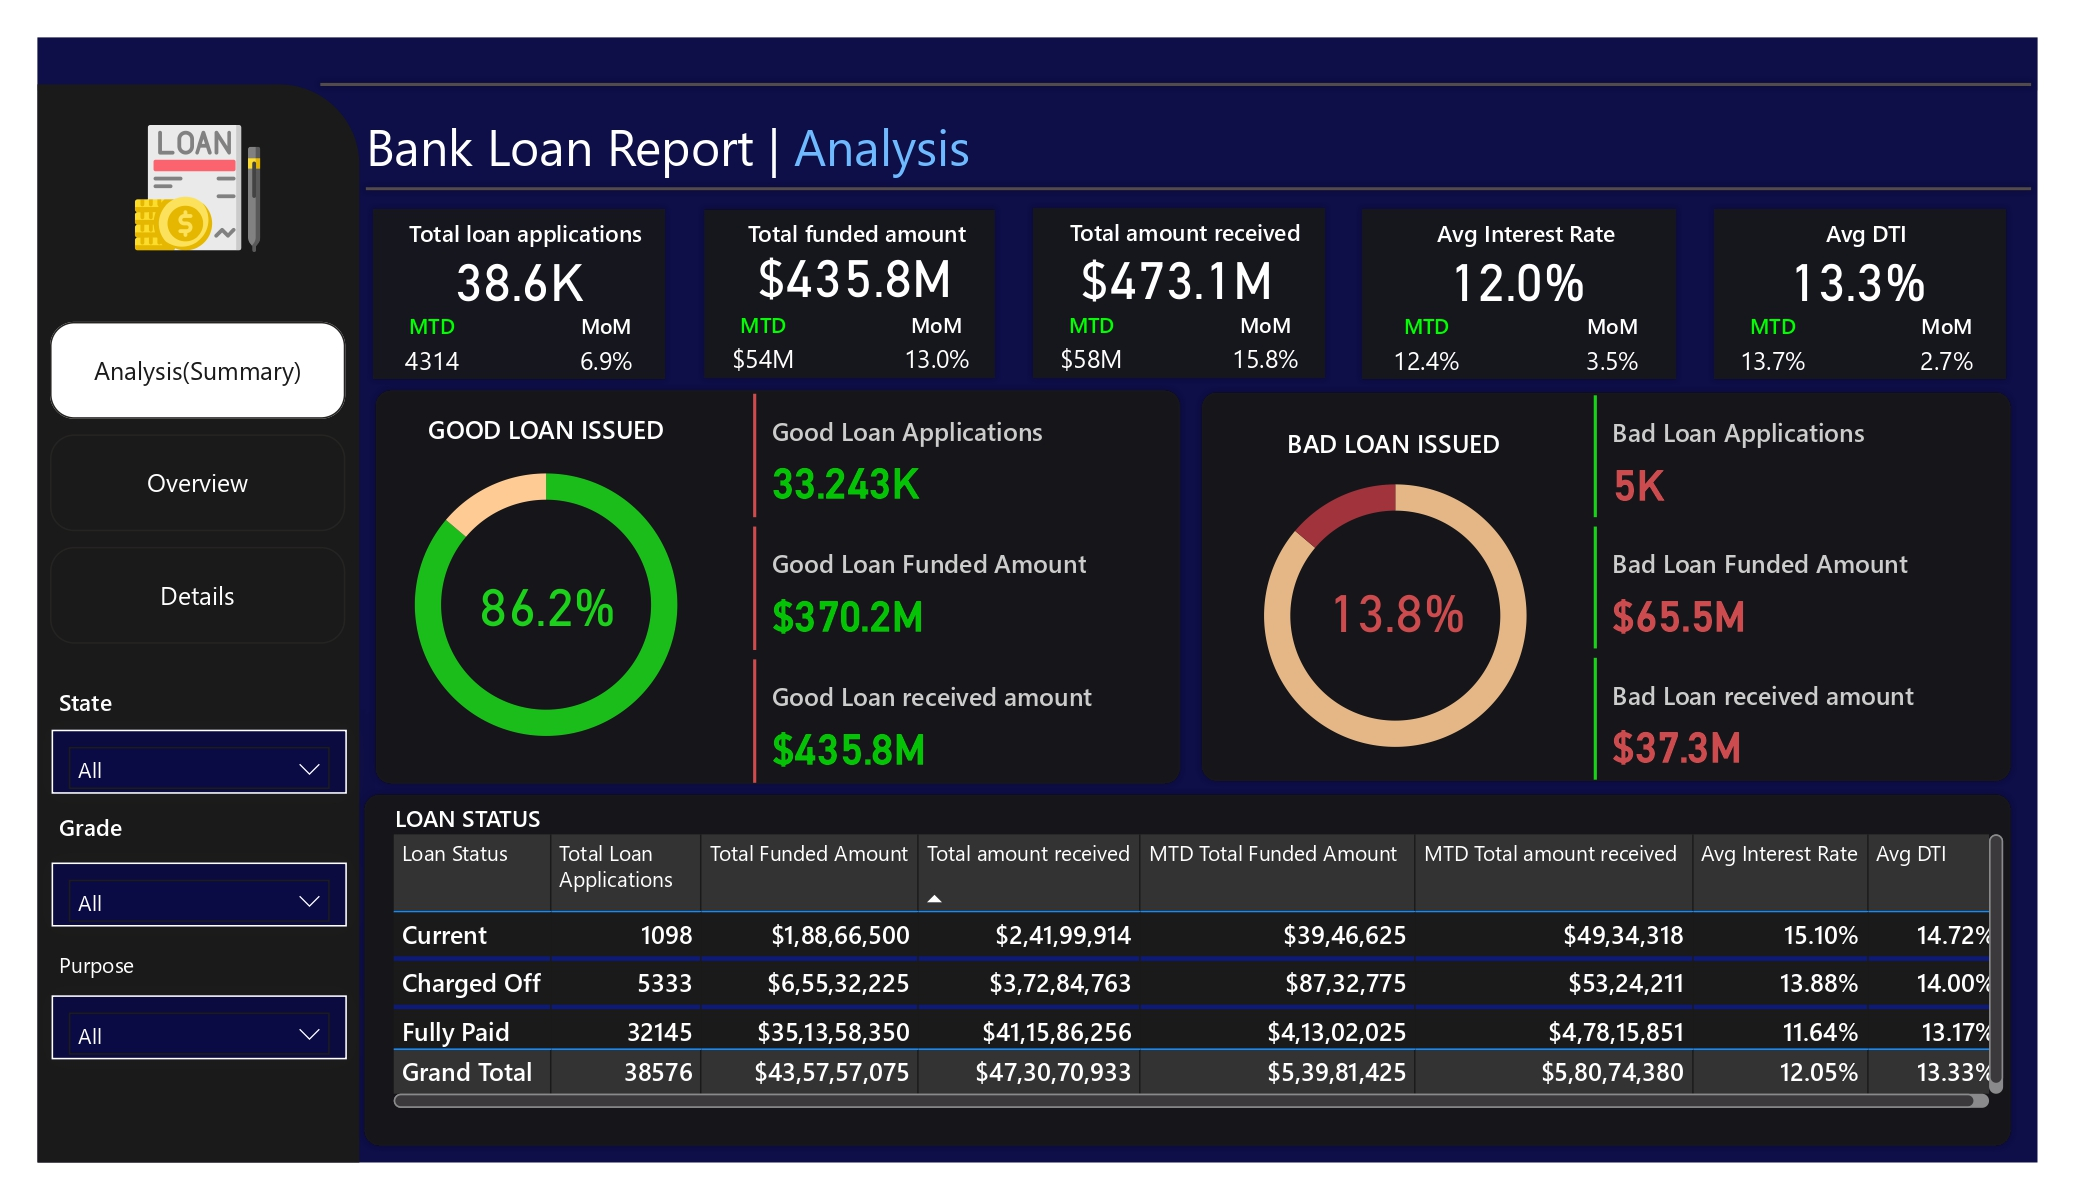

The dashboard page shown, as its layout file describes it:
{"tool":"powerbi","page":{"name":"Analysis(Summary)","canvas":[1280,720],"ordinal":0},"visuals":[{"type":"shape","box":[0,30,205.6,690],"z":0},{"type":"shape","box":[632.9,105,194.8,116.9],"z":0,"group":"g3"},{"type":"shape","box":[211.4,105.7,194.8,116.9],"z":0,"group":"g1"},{"type":"shape","box":[422.5,105.7,194.3,116.2],"z":0,"group":"g2"},{"type":"shape","box":[843.7,105.7,208.9,117.3],"z":0,"group":"g4"},{"type":"shape","box":[1068.6,105.7,194.8,116.9],"z":0,"group":"g5"},{"type":"shape","box":[176.7,0,1103.3,60],"z":1000},{"type":"card","fields":{"Values":["bank_loan.Total Funded Amount"]},"box":[438.1,123.7,168,55.3],"z":1000,"group":"g2"},{"type":"card","fields":{"Values":["bank_loan.Total amount received"]},"box":[649.1,125.4,160,55.7],"z":1000,"group":"g3"},{"type":"card","fields":{"Values":["bank_loan.Avg DTI"]},"box":[1084.8,126.1,160,55.7],"z":1000,"group":"g5"},{"type":"card","fields":{"Values":["bank_loan.Avg Interest Rate"]},"box":[861.1,126.2,171.6,55.9],"z":1000,"group":"g4"},{"type":"card","fields":{"Values":["bank_loan.Total Loan Applications"]},"box":[232.3,128,153,51.5],"z":1000,"group":"g1"},{"type":"shape","box":[205.6,65.6,1074.4,61.1],"z":2000},{"type":"textbox","box":[653.8,109.2,161.4,34.8],"z":2000,"group":"g3"},{"type":"textbox","box":[232.3,109.9,161.4,34.8],"z":2000,"group":"g1"},{"type":"textbox","box":[443.3,109.9,161,34.6],"z":2000,"group":"g2"},{"type":"textbox","box":[866.1,109.9,173.1,34.9],"z":2000,"group":"g4"},{"type":"textbox","box":[1089.5,109.9,161.4,34.8],"z":2000,"group":"g5"},{"type":"shape","box":[740.8,223.3,525.8,256.7],"z":2000,"group":"g6"},{"type":"card","title":"MTD","fields":{"Values":["bank_loan.MTD Total amount received"]},"box":[632.9,174.6,83.5,47.3],"z":3000,"group":"g3"},{"type":"card","title":"MTD","fields":{"Values":["bank_loan.MTD Funded Amount"]},"box":[422.5,174.9,83.3,47],"z":3000,"group":"g2"},{"type":"card","title":"MTD","fields":{"Values":["bank_loan.MTD Loan Applications"]},"box":[211.4,175.3,83.5,47.3],"z":3000,"group":"g1"},{"type":"card","title":"MTD","fields":{"Values":["bank_loan.MTD Avg DTI"]},"box":[1068.6,175.3,83.5,47.3],"z":3000,"group":"g5"},{"type":"card","title":"MTD","fields":{"Values":["bank_loan.MTD Avg Interest Rate"]},"box":[843.7,175.5,89.5,47.5],"z":3000,"group":"g4"},{"type":"card","fields":{"Values":["bank_loan.Bad Loan %"]},"box":[810.3,339.4,118.3,53.3],"z":3000,"group":"g6"},{"type":"textbox","box":[8.9,410,160,33.3],"z":3000},{"type":"textbox","box":[205,41.7,586.7,81.7],"z":4000},{"type":"card","title":"MoM","fields":{"Values":["bank_loan.MoM Total Amount Received"]},"box":[744.2,174.6,83.5,47.3],"z":4000,"group":"g3"},{"type":"card","title":"MoM","fields":{"Values":["bank_loan.MoM Total Funded Amount"]},"box":[533.5,174.9,83.3,47],"z":4000,"group":"g2"},{"type":"card","title":"MoM","fields":{"Values":["bank_loan.Mom Loan Applications"]},"box":[322.7,175.3,83.5,47.3],"z":4000,"group":"g1"},{"type":"card","title":"MoM","fields":{"Values":["bank_loan.MoM Avg DTI"]},"box":[1179.9,175.3,83.5,47.3],"z":4000,"group":"g5"},{"type":"card","title":"MoM","fields":{"Values":["bank_loan.MoM Avg Interest Rate"]},"box":[963.1,175.5,89.5,47.5],"z":4000,"group":"g4"},{"type":"textbox","box":[779.3,244.7,177.5,33.3],"z":4000,"group":"g6"},{"type":"shape","box":[211.7,221.7,523.3,260],"z":5000},{"type":"card","fields":{"Values":["bank_loan.Good Loan %"]},"box":[269.6,334.7,113,54],"z":6000},{"type":"textbox","box":[239.9,235.4,171.1,33.4],"z":7000},{"type":"shape","box":[205,480,1061.7,233.3],"z":8000},{"type":"tableEx","fields":{"Values":["bank_loan.loan_status","bank_loan.Total Loan Applications","bank_loan.Total Funded Amount","bank_loan.Total amount received","bank_loan.MTD Total Funded Amount","bank_loan.MTD Total amount received","bank_loan.Avg Interest Rate","bank_loan.Avg DTI"]},"box":[221.7,505,1041.7,185],"z":9000},{"type":"group","id":"g1","title":"Group 1","box":[211.4,105.7,194.8,116.9],"z":10000},{"type":"group","id":"g2","title":"Group 1","box":[422.5,105.7,194,116],"z":11000},{"type":"donutChart","fields":{"Category":["bank_loan.Good vs bad Loan"],"Y":["bank_loan.Total Loan Applications"]},"box":[201.4,252.9,248.6,220],"z":12000},{"type":"group","id":"g3","title":"Group 1","box":[632.9,105,194.4,116.7],"z":13000},{"type":"group","id":"g4","title":"Group 1","box":[843.7,105.7,208.6,117.1],"z":14000},{"type":"cardVisual","fields":{"Data":["bank_loan.Bad Loan Applications","bank_loan.Bad Loan Funded Amount","bank_loan.Bad Loan received amount"]},"box":[990.4,224.5,262.1,255.5],"z":14000,"group":"g6"},{"type":"group","id":"g5","title":"Group 1","box":[1068.6,105.7,195.7,115.7],"z":15000},{"type":"cardVisual","fields":{"Data":["bank_loan.Good Loan Applications","bank_loan.Good Loan Funded Amount","bank_loan.Good Loan received amount"]},"box":[452.8,222.9,253.2,258.8],"z":16000},{"type":"group","id":"g6","title":"Group 2","box":[740.8,223.3,525.8,256.7],"z":17000},{"type":"donutChart","fields":{"Category":["bank_loan.Good vs bad Loan"],"Y":["bank_loan.Total Loan Applications"]},"box":[745,260,248.3,220],"z":18000},{"type":"textbox","box":[201.1,484.4,148.9,43.3],"z":19000},{"type":"slicer","fields":{"Values":["bank_loan.address_state"]},"box":[8.9,443.3,188.9,41.1],"z":20000},{"type":"slicer","fields":{"Values":["bank_loan.grade"]},"box":[8.9,527.8,188.9,41.1],"z":21000},{"type":"slicer","fields":{"Values":["bank_loan.purpose"]},"box":[8.9,613.3,188.9,41.1],"z":22000},{"type":"textbox","box":[8.9,490,160,33.3],"z":23000},{"type":"textbox","box":[8.9,580,160,33.3],"z":24000},{"type":"image","box":[56.7,46.7,91.7,98.3],"z":25000},{"type":"pageNavigator","box":[8.3,181.7,188.3,206.7],"z":26000}]}

Visuals, with their boxes on the page's 1280x720 design canvas (x1, y1, x2, y2). These are canvas units, not pixel positions in the 2075x1200 screenshot, which may show the page scaled, cropped or inside an application window:
shape: region(0, 30, 206, 720)
shape: region(633, 105, 828, 222)
shape: region(211, 106, 406, 223)
shape: region(422, 106, 617, 222)
shape: region(844, 106, 1053, 223)
shape: region(1069, 106, 1263, 223)
shape: region(177, 0, 1280, 60)
card - bank_loan.Total Funded Amount: region(438, 124, 606, 179)
card - bank_loan.Total amount received: region(649, 125, 809, 181)
card - bank_loan.Avg DTI: region(1085, 126, 1245, 182)
card - bank_loan.Avg Interest Rate: region(861, 126, 1033, 182)
card - bank_loan.Total Loan Applications: region(232, 128, 385, 180)
shape: region(206, 66, 1280, 127)
textbox: region(654, 109, 815, 144)
textbox: region(232, 110, 394, 145)
textbox: region(443, 110, 604, 144)
textbox: region(866, 110, 1039, 145)
textbox: region(1090, 110, 1251, 145)
shape: region(741, 223, 1267, 480)
"MTD" card: region(633, 175, 716, 222)
"MTD" card: region(422, 175, 506, 222)
"MTD" card: region(211, 175, 295, 223)
"MTD" card: region(1069, 175, 1152, 223)
"MTD" card: region(844, 176, 933, 223)
card - bank_loan.Bad Loan %: region(810, 339, 929, 393)
textbox: region(9, 410, 169, 443)
textbox: region(205, 42, 792, 123)
"MoM" card: region(744, 175, 828, 222)
"MoM" card: region(534, 175, 617, 222)
"MoM" card: region(323, 175, 406, 223)
"MoM" card: region(1180, 175, 1263, 223)
"MoM" card: region(963, 176, 1053, 223)
textbox: region(779, 245, 957, 278)
shape: region(212, 222, 735, 482)
card - bank_loan.Good Loan %: region(270, 335, 383, 389)
textbox: region(240, 235, 411, 269)
shape: region(205, 480, 1267, 713)
tableEx - bank_loan.loan_status x bank_loan.Total Loan Applications: region(222, 505, 1263, 690)
"Group 1" group: region(211, 106, 406, 223)
"Group 1" group: region(422, 106, 616, 222)
donutChart - bank_loan.Good vs bad Loan x bank_loan.Total Loan Applications: region(201, 253, 450, 473)
"Group 1" group: region(633, 105, 827, 222)
"Group 1" group: region(844, 106, 1052, 223)
cardVisual - bank_loan.Bad Loan Applications x bank_loan.Bad Loan Funded Amount: region(990, 224, 1252, 480)
"Group 1" group: region(1069, 106, 1264, 221)
cardVisual - bank_loan.Good Loan Applications x bank_loan.Good Loan Funded Amount: region(453, 223, 706, 482)
"Group 2" group: region(741, 223, 1267, 480)
donutChart - bank_loan.Good vs bad Loan x bank_loan.Total Loan Applications: region(745, 260, 993, 480)
textbox: region(201, 484, 350, 528)
slicer - bank_loan.address_state: region(9, 443, 198, 484)
slicer - bank_loan.grade: region(9, 528, 198, 569)
slicer - bank_loan.purpose: region(9, 613, 198, 654)
textbox: region(9, 490, 169, 523)
textbox: region(9, 580, 169, 613)
image: region(57, 47, 148, 145)
pageNavigator: region(8, 182, 197, 388)
